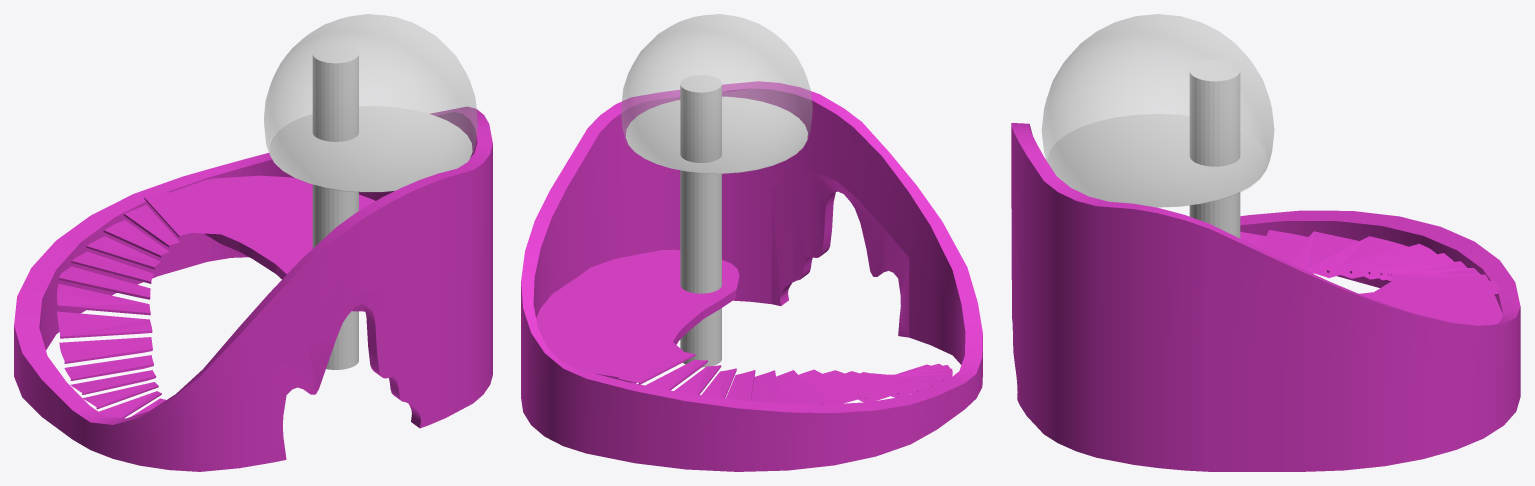
File: G_MochiMuseum_Proxy_v02_ReshapedWalls.fbx
3 renders of one model, left to right at view 1: azimuth 30°, elevation 25°; view 2: azimuth 150°, elevation 25°; view 3: azimuth 270°, elevation 25°, orthographic. The views are drawn at different scales.
Parts seen in each view (by area): view 1: Cube.011, Cube.012, Cube.008, Plane, Cube.009, Cylinder; view 2: Cube.011, Cube.012, Cube.009, Cylinder, Cube.008, Plane; view 3: Cube.011, Cube.012, Plane, Cube.008, Cylinder, Cube.009.
Boxes of the visible parts, x1,y1,x2,y2 form: Cube.011: (14,106,492,471); Cube.012: (264,14,477,192); Cube.008: (57,191,220,418); Plane: (269,106,472,191); Cube.009: (170,175,375,311); Cylinder: (312,43,358,369); Cube.011: (521,81,982,471); Cube.012: (621,14,812,173); Cube.009: (536,249,739,383); Cylinder: (680,75,721,367); Cube.008: (618,342,952,404); Plane: (625,96,807,173); Cube.011: (1011,123,1520,471); Cube.012: (1041,14,1274,207); Plane: (1047,114,1268,207); Cube.008: (1240,230,1498,295); Cylinder: (1189,60,1240,238); Cube.009: (1359,292,1502,325).
Size of the model in its own units: 7660 by 6342 by 7623.
